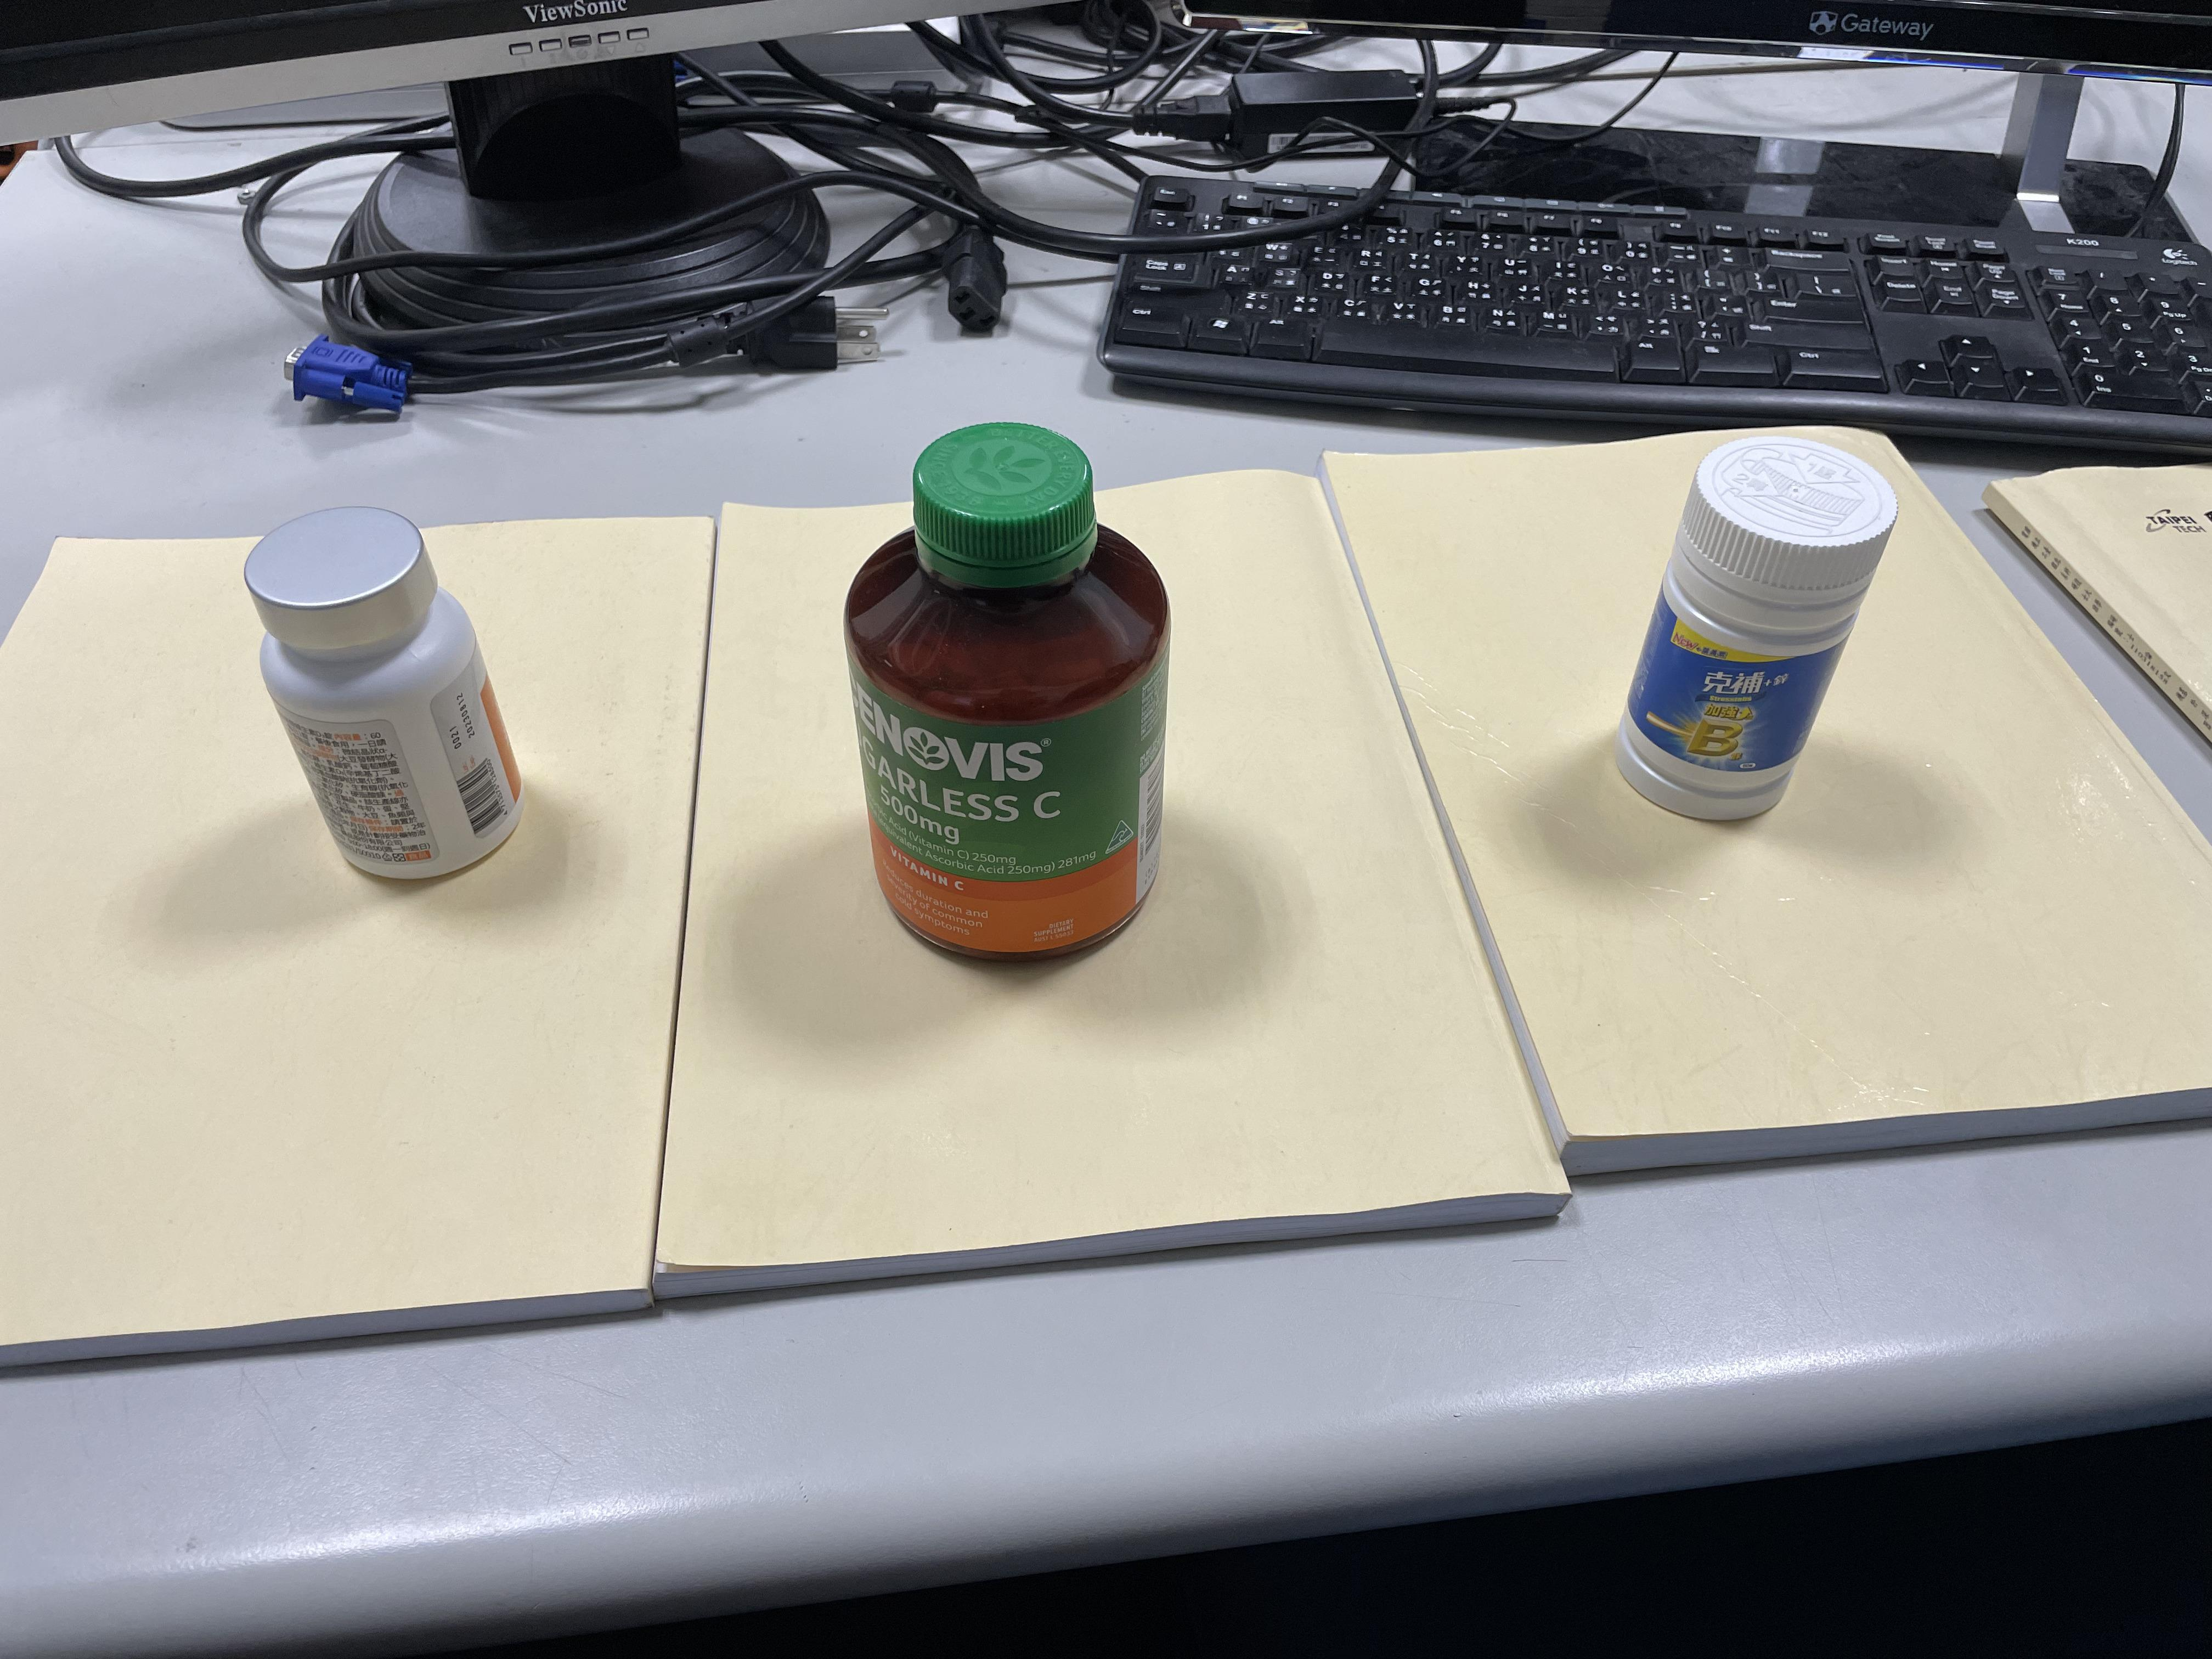jar: (812, 439, 1193, 971), (216, 474, 535, 892), (1622, 406, 1893, 864)
